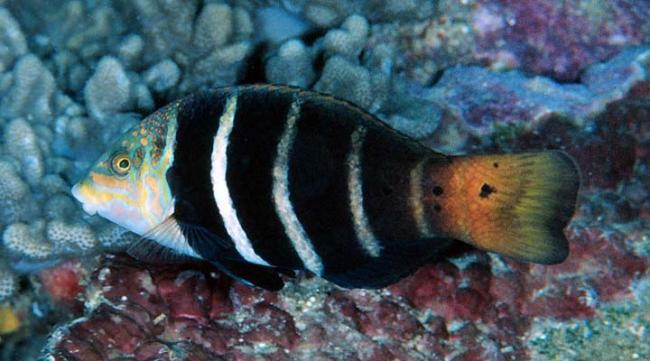fish: (70, 84, 582, 292)
